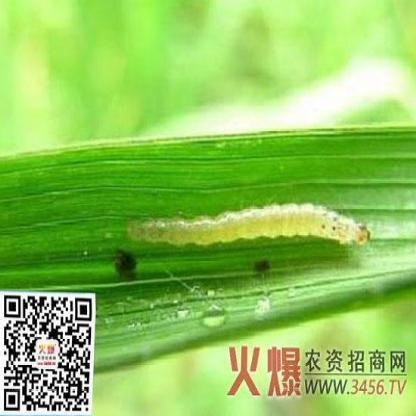leaf-folder: (103, 189, 382, 275)
